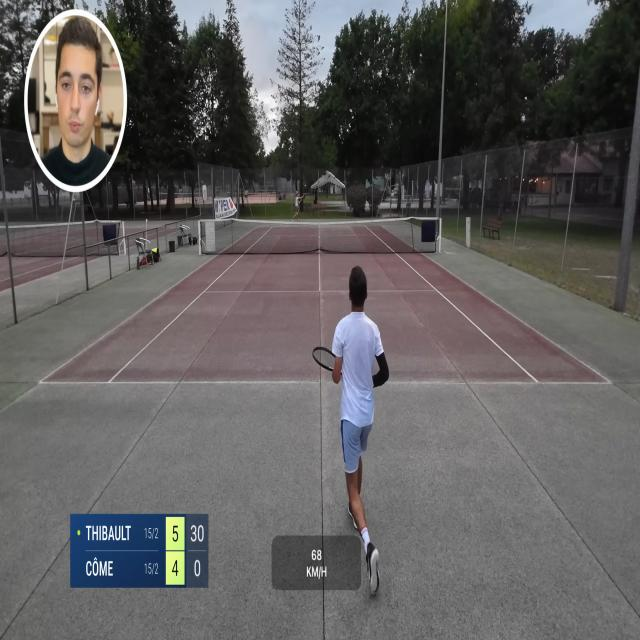ball: (304, 184, 306, 187)
